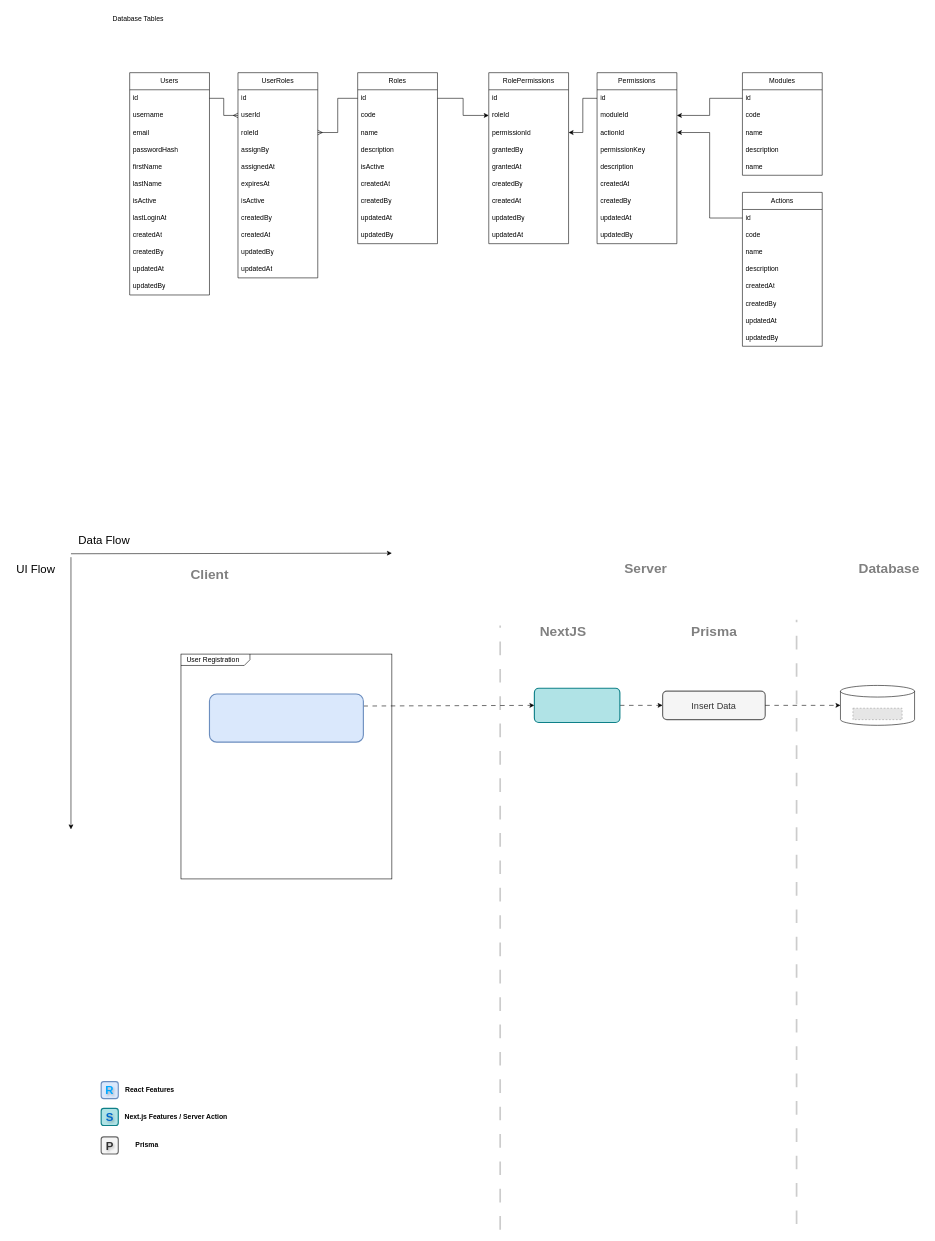
Image size: 935x1241. Some labels were removed from this diagram. Grey dashed boxes stand in for pictures. The centre of each missing label's shape, as x and y in pixels:
"<form action={RegisterUser}" goes at [286,717].
"RegisterUser" goes at [577,705].
